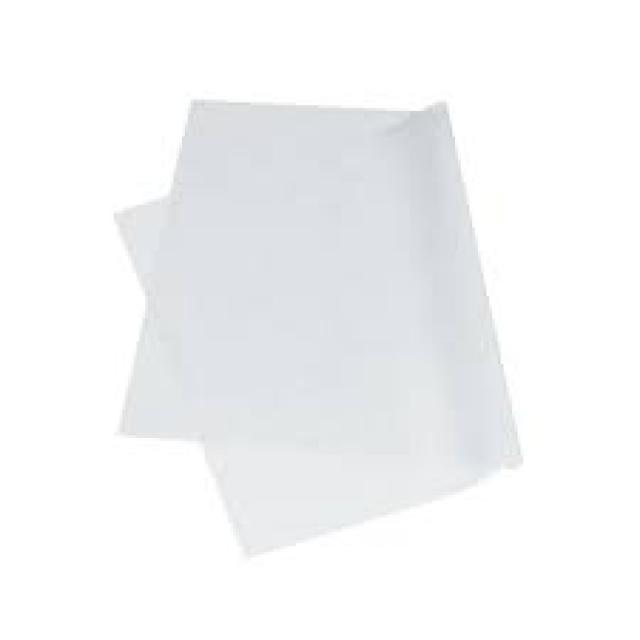cardboard: (113, 96, 524, 556)
